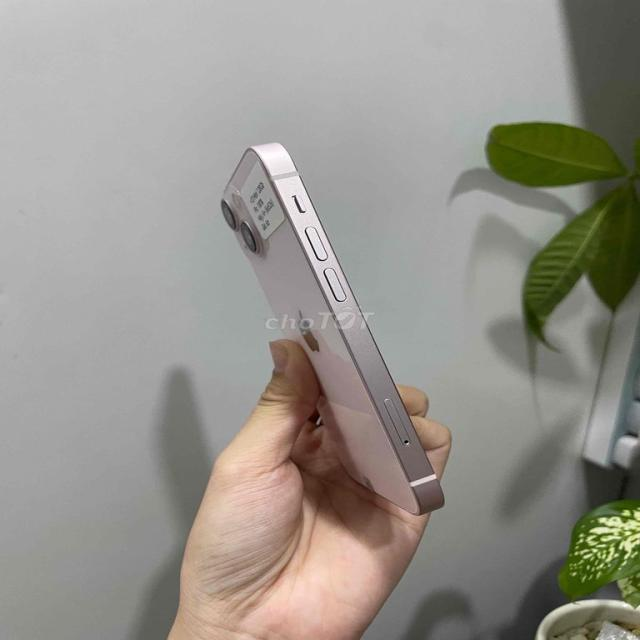gen_12_13: (215, 138, 448, 527)
